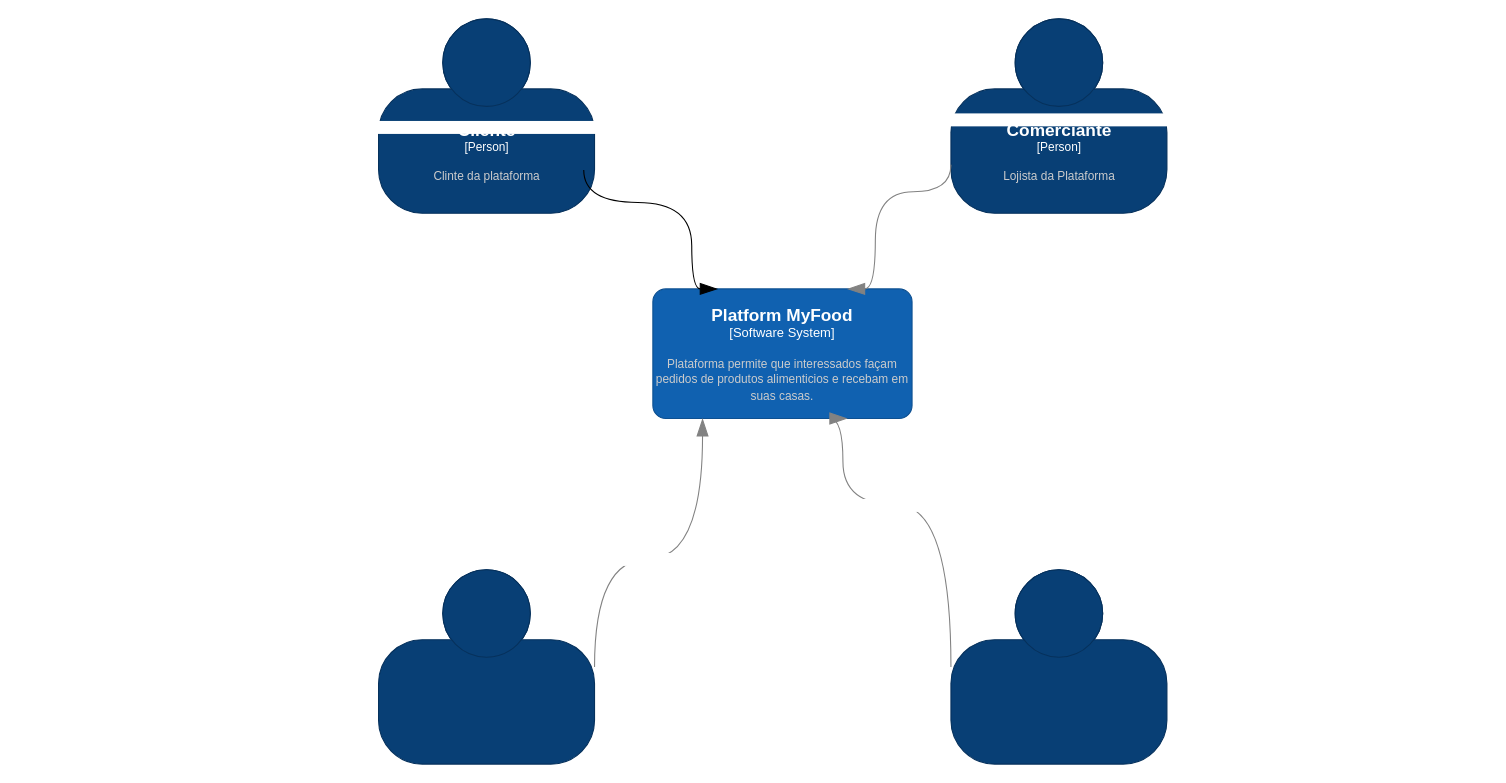
The diagram is 1506 pixels wide and 783 high, and some of its shapes have lost their labels. Each missing label, with the box of its shape:
Motoboy [Person] Motorista da Plataforma: (377, 569, 595, 764)
Plataforma [Person] Propria plataforma: (950, 569, 1167, 764)
